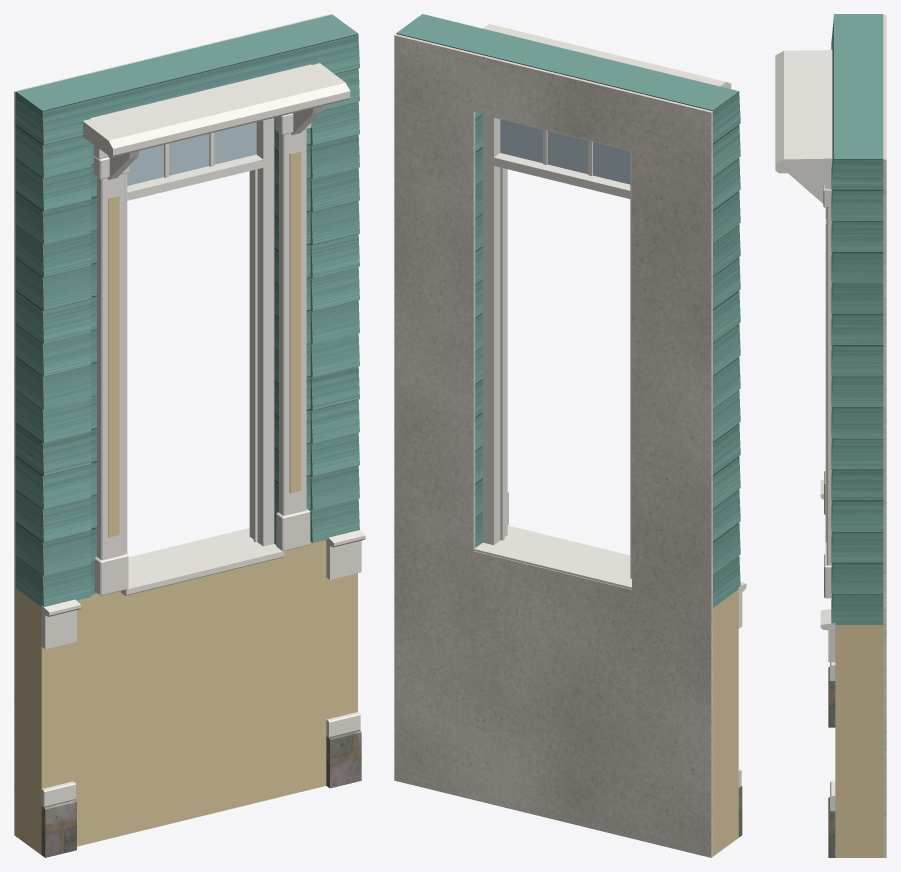
File: f_g_door_c.glb
3 views of the same model, side by side, from view 1: azimuth 30°, elevation 25°; view 2: azimuth 150°, elevation 25°; view 3: azimuth 270°, elevation 25° (orthographic). The views are drawn at different scales.
Parts seen in each view (by area): view 1: f_g_door_c_acc_c, f_g_door_c_siding_c, f_g_door_c_trim, f_g_door_c_frame, f_g_door_c_glass, f_g_door_c_plinth, f_g_door_c_plaster; view 2: f_g_door_c_plaster, f_g_door_c_siding_c, f_g_door_c_frame, f_g_door_c_trim, f_g_door_c_acc_c, f_g_door_c_glass; view 3: f_g_door_c_siding_c, f_g_door_c_acc_c, f_g_door_c_trim, f_g_door_c_plaster, f_g_door_c_plinth.
Part boxes in pixels (x1=…): f_g_door_c_acc_c: x1=16, y1=151, x2=357, y2=854; f_g_door_c_siding_c: x1=16, y1=14, x2=359, y2=606; f_g_door_c_trim: x1=41, y1=63, x2=365, y2=806; f_g_door_c_frame: x1=124, y1=118, x2=274, y2=554; f_g_door_c_glass: x1=127, y1=122, x2=256, y2=185; f_g_door_c_plinth: x1=41, y1=730, x2=361, y2=857; f_g_door_c_plaster: x1=14, y1=14, x2=330, y2=836; f_g_door_c_plaster: x1=394, y1=34, x2=712, y2=857; f_g_door_c_siding_c: x1=396, y1=14, x2=740, y2=607; f_g_door_c_frame: x1=482, y1=114, x2=631, y2=578; f_g_door_c_trim: x1=474, y1=24, x2=746, y2=787; f_g_door_c_acc_c: x1=713, y1=589, x2=738, y2=856; f_g_door_c_glass: x1=500, y1=119, x2=630, y2=184; f_g_door_c_siding_c: x1=831, y1=14, x2=883, y2=624; f_g_door_c_acc_c: x1=825, y1=207, x2=883, y2=857; f_g_door_c_trim: x1=775, y1=50, x2=835, y2=811; f_g_door_c_plaster: x1=883, y1=14, x2=886, y2=857; f_g_door_c_plinth: x1=828, y1=666, x2=835, y2=857.
Size of the model in its own units: 2 by 4.5 by 0.65.
Materials: 7 (3 with a texture image).
